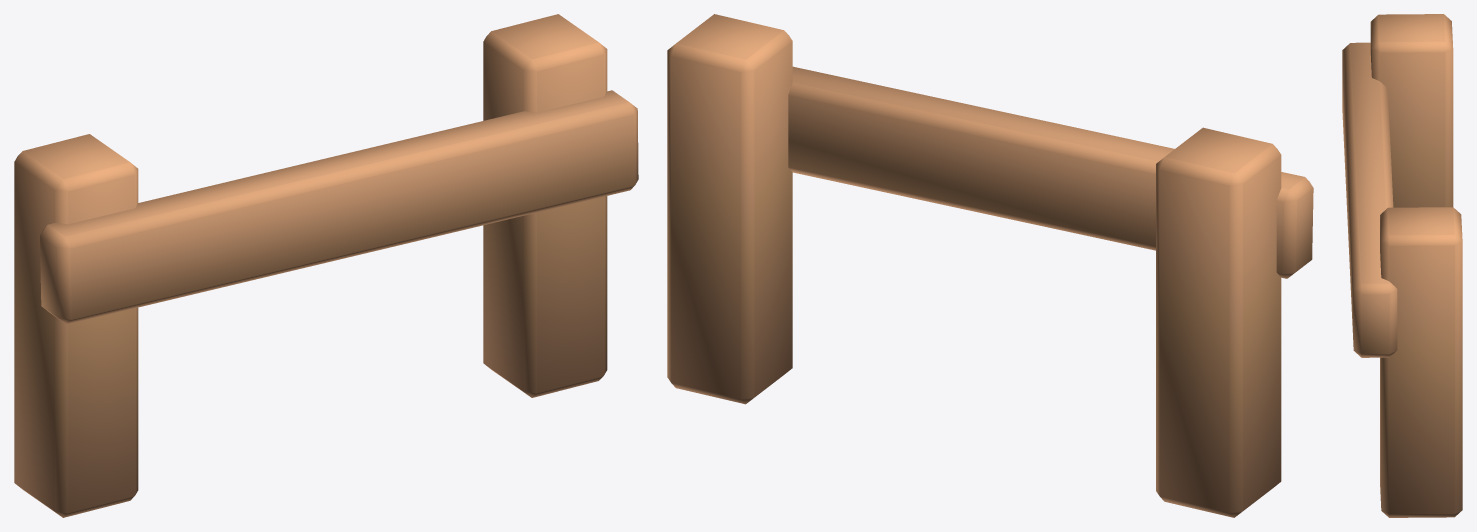
The model's file is FenceTile_1.fbx.
3 views of the same model, side by side, from view 1: azimuth 30°, elevation 25°; view 2: azimuth 150°, elevation 25°; view 3: azimuth 270°, elevation 25° (orthographic). The views are drawn at different scales.
Visible parts, largest first — view 1: FenceTile_1; view 2: FenceTile_1; view 3: FenceTile_1.
Boxes of the visible parts, bbox=[...] form: FenceTile_1: bbox=[14, 14, 638, 517]; FenceTile_1: bbox=[667, 14, 1313, 517]; FenceTile_1: bbox=[1342, 14, 1462, 517].
Bounding box in the file's own units: 134 × 73.59 × 28.39.
